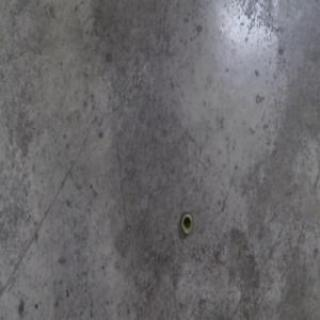Nuttrack_idkeyframe: (180, 211, 192, 236)
